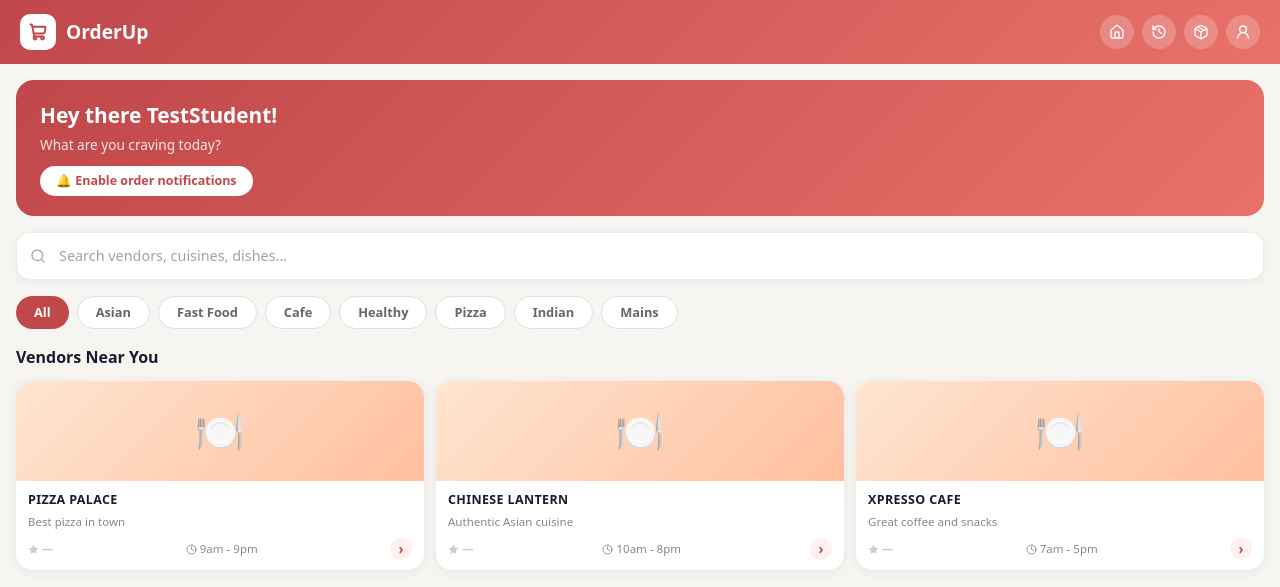
Test case: StudentDashboard › shows "No vendors found" when filter matches nothing
Check: the heading "Pizza Palace" is shown, box [28,491,118,508]
Click the button "Healthy".
click(383, 312)  # box [339,296,428,329]
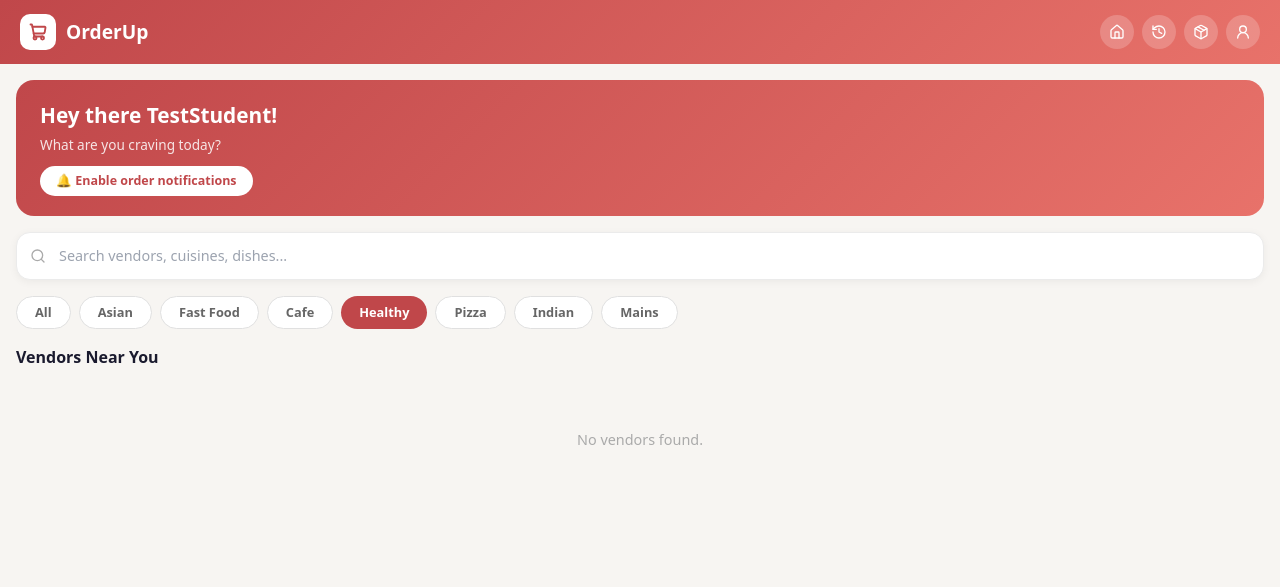
Check: the text "No vendors found." is shown, box [577,430,703,449]
